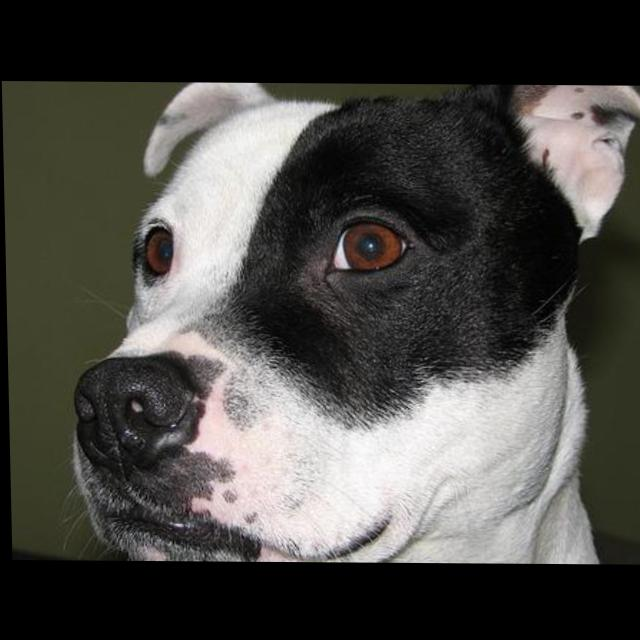staffford: (51, 82, 640, 564)
